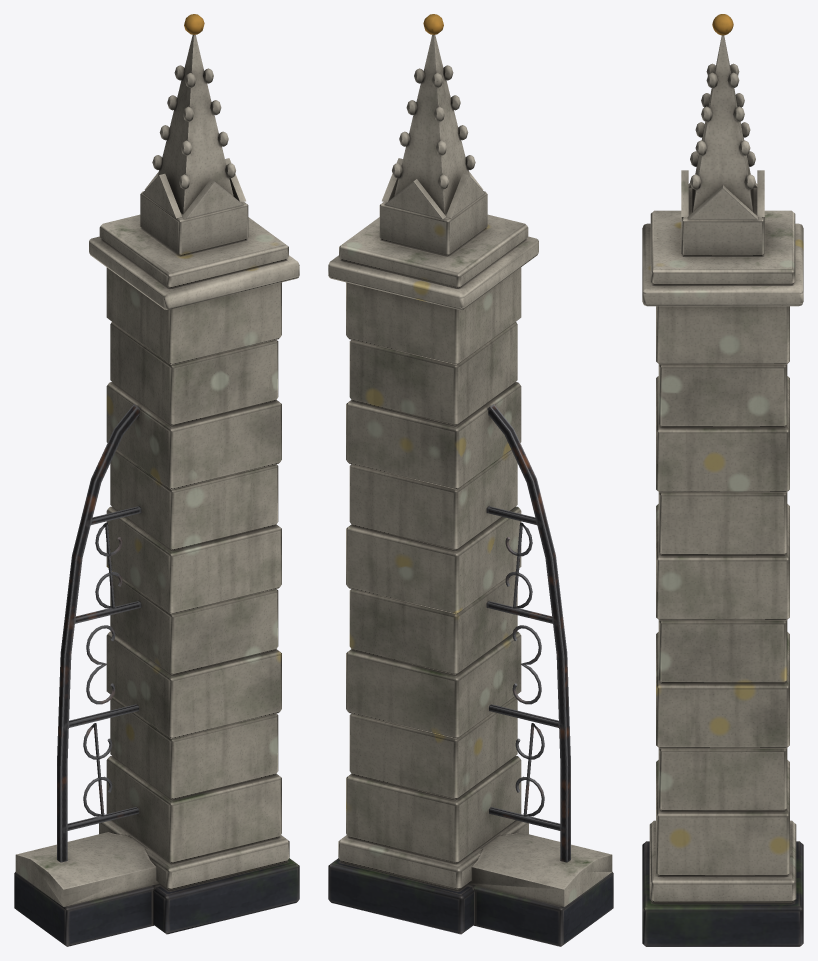
File: RailingEnd.fbx
3 views of the same model, side by side, from view 1: azimuth 30°, elevation 25°; view 2: azimuth 150°, elevation 25°; view 3: azimuth 270°, elevation 25° (orthographic). The views are drawn at different scales.
Parts seen in each view (by area): view 1: RailingEnd; view 2: RailingEnd; view 3: RailingEnd.
Boxes of the visible parts, bbox=[...] form: RailingEnd: bbox=[14, 14, 299, 946]; RailingEnd: bbox=[328, 14, 613, 946]; RailingEnd: bbox=[642, 14, 803, 946].
Size of the model in its own units: 295 by 1109 by 180.
